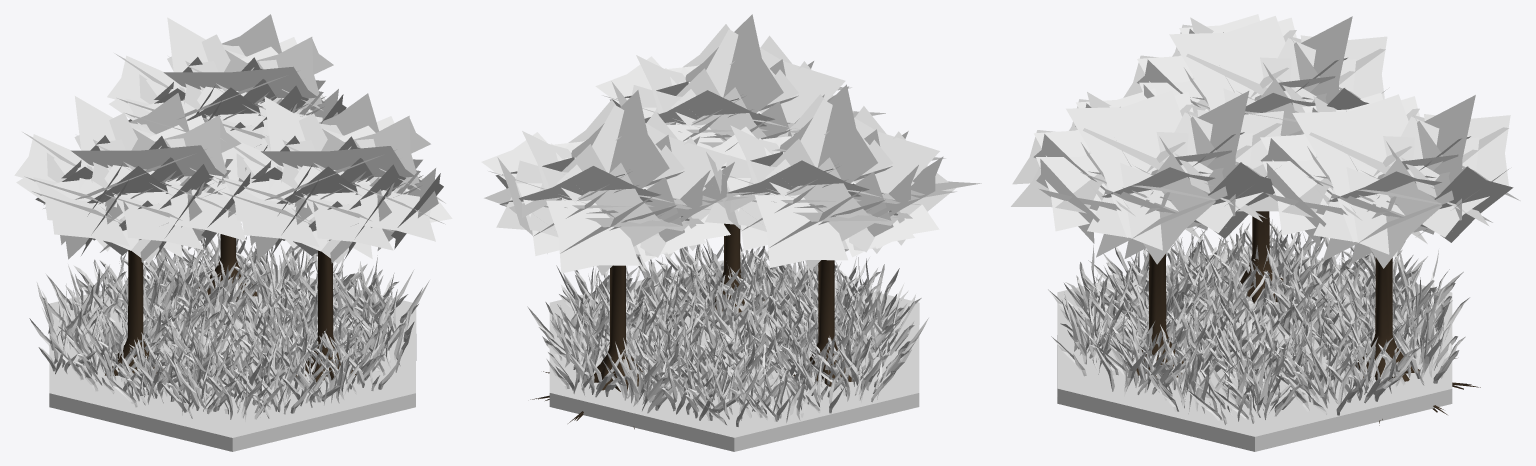
The model's file is jungle.fbx.
The picture shows the model from 3 angles, left to right: view 1: azimuth 30°, elevation 25°; view 2: azimuth 150°, elevation 25°; view 3: azimuth 270°, elevation 25°; orthographic projection. The views are drawn at different scales.
Visible parts, largest first — view 1: Jungle_LOD0; view 2: Jungle_LOD0; view 3: Jungle_LOD0.
Boxes of the visible parts, <box> form: Jungle_LOD0: <box>14,14,452,451</box>; Jungle_LOD0: <box>481,14,981,451</box>; Jungle_LOD0: <box>1011,14,1520,451</box>.
Size of what is drawn, in the model's own units: 4719 by 3040 by 4911.
